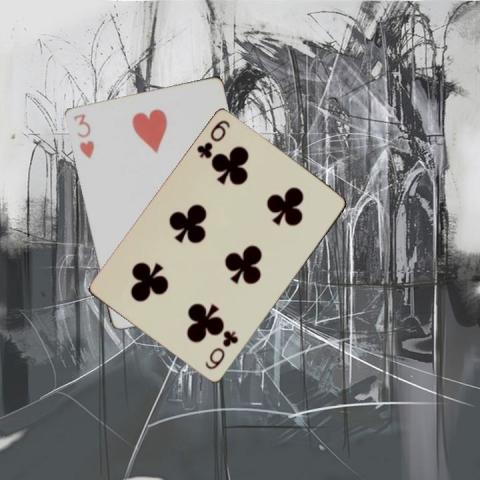3h: (70, 111, 95, 160)
6c: (193, 117, 232, 161), (201, 328, 240, 371)
